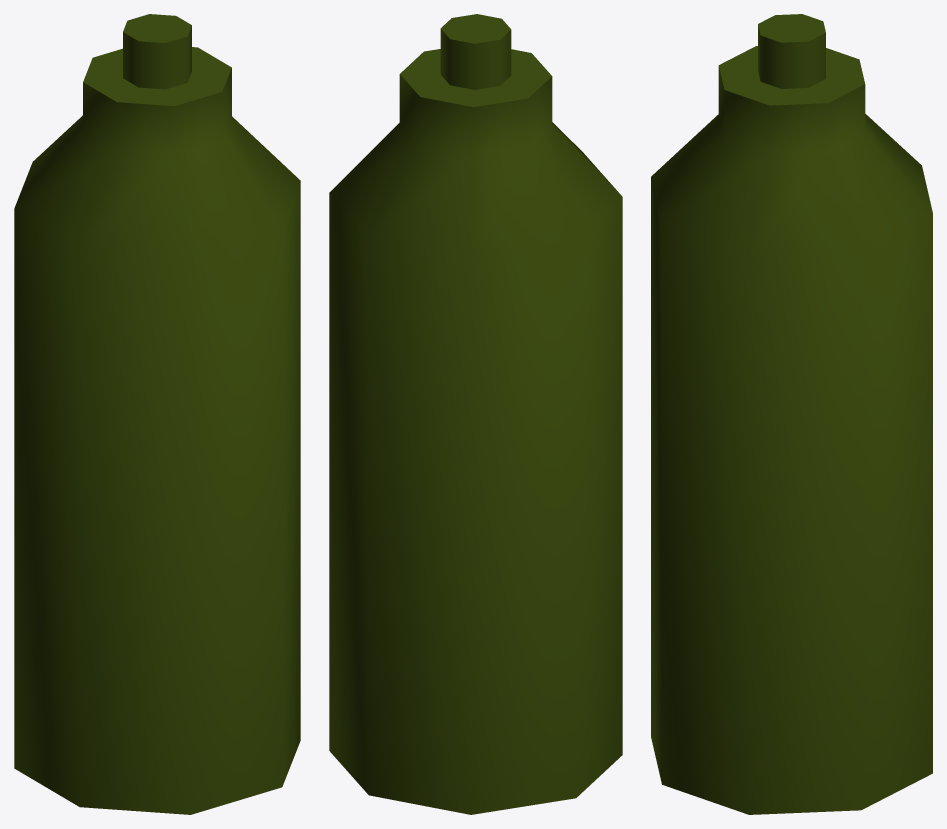
File: Can2_M.fbx
3 renders of one model, left to right at view 1: azimuth 30°, elevation 25°; view 2: azimuth 150°, elevation 25°; view 3: azimuth 270°, elevation 25°, orthographic.
Parts seen in each view (by area): view 1: Can2; view 2: Can2; view 3: Can2.
Part boxes in pixels (x1=…): Can2: x1=14, y1=14, x2=300, y2=814; Can2: x1=329, y1=14, x2=622, y2=814; Can2: x1=651, y1=14, x2=932, y2=814.
Bounding box in the file's own units: 0.032 × 0.0911 × 0.032.
